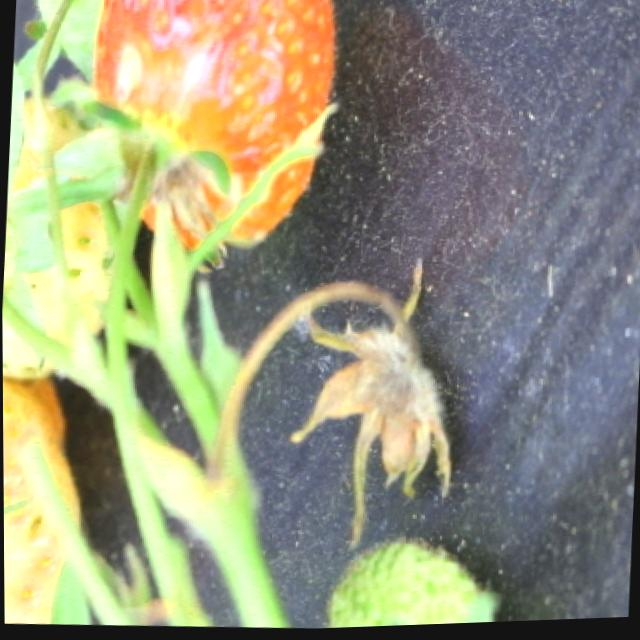Gray Mold: (288, 260, 450, 549)
